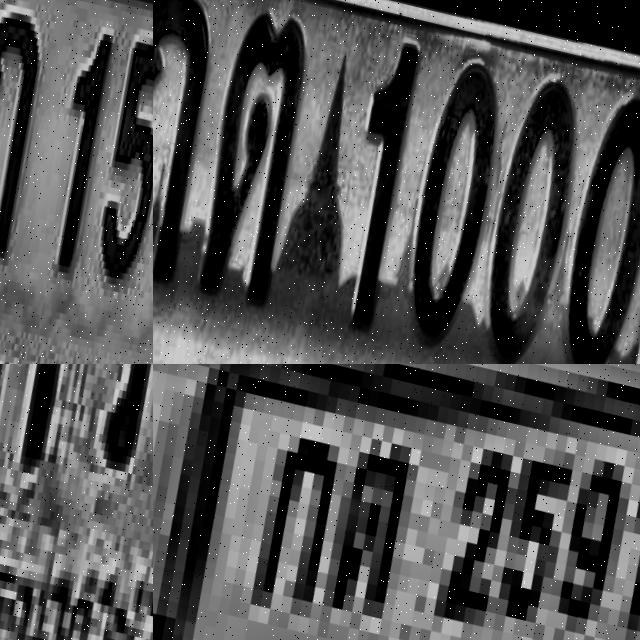license-plate: (153, 0, 640, 364), (153, 364, 640, 640), (0, 0, 153, 364), (0, 364, 153, 640)
